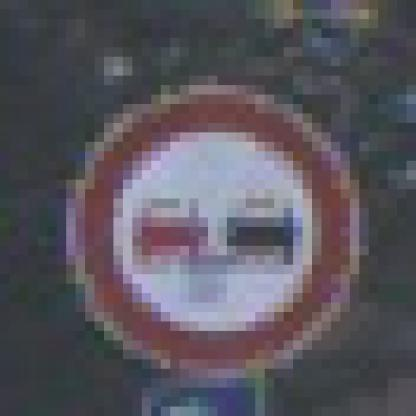No Overtaking: (58, 48, 370, 370)
